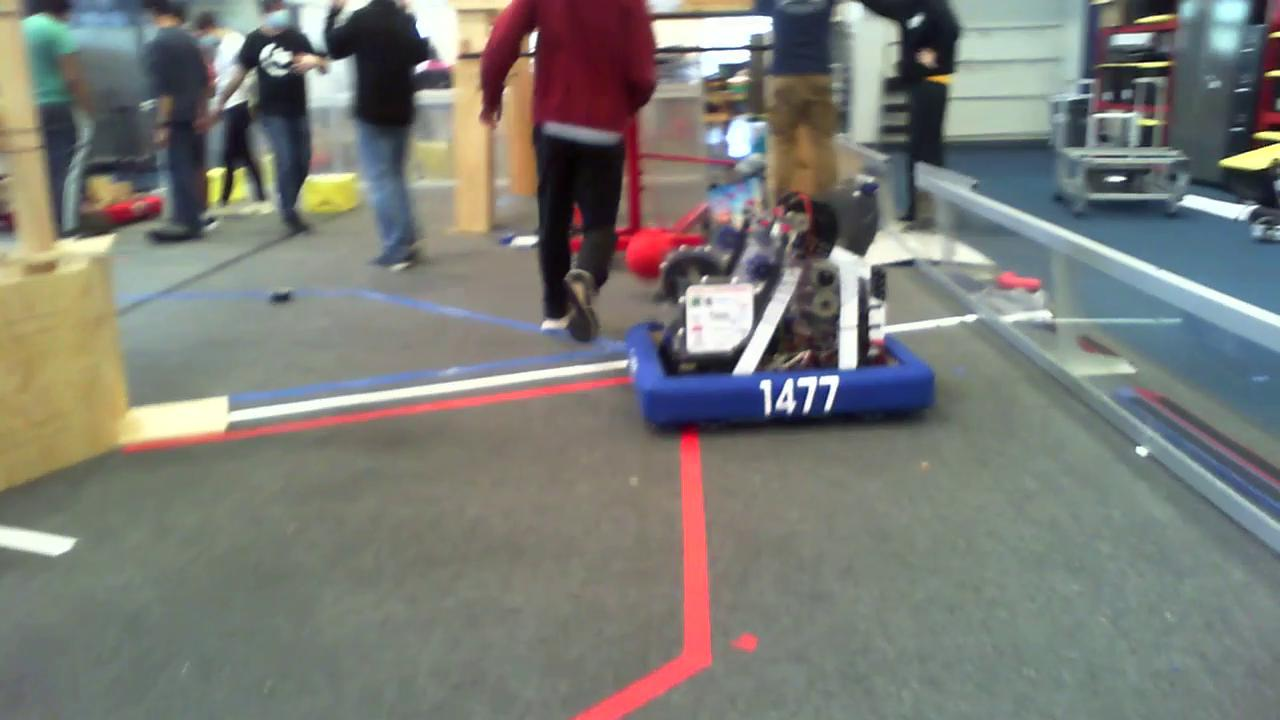Red_Ball: (620, 220, 680, 278)
